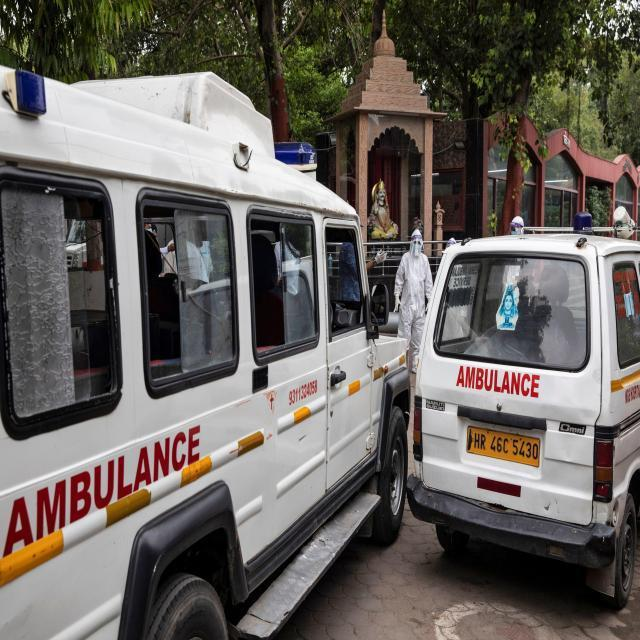Ambulance: (3, 414, 213, 568), (444, 359, 554, 401)
